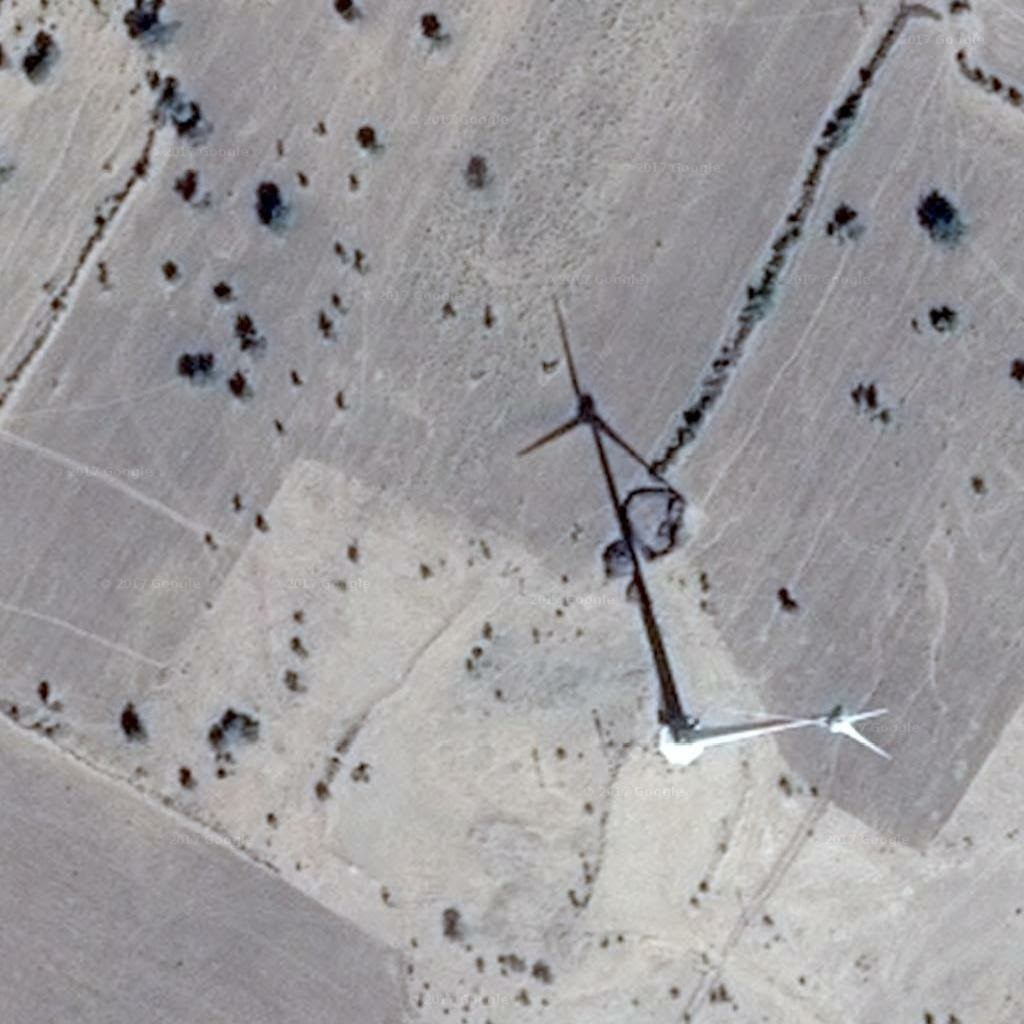Windmill: (519, 309, 693, 719)
